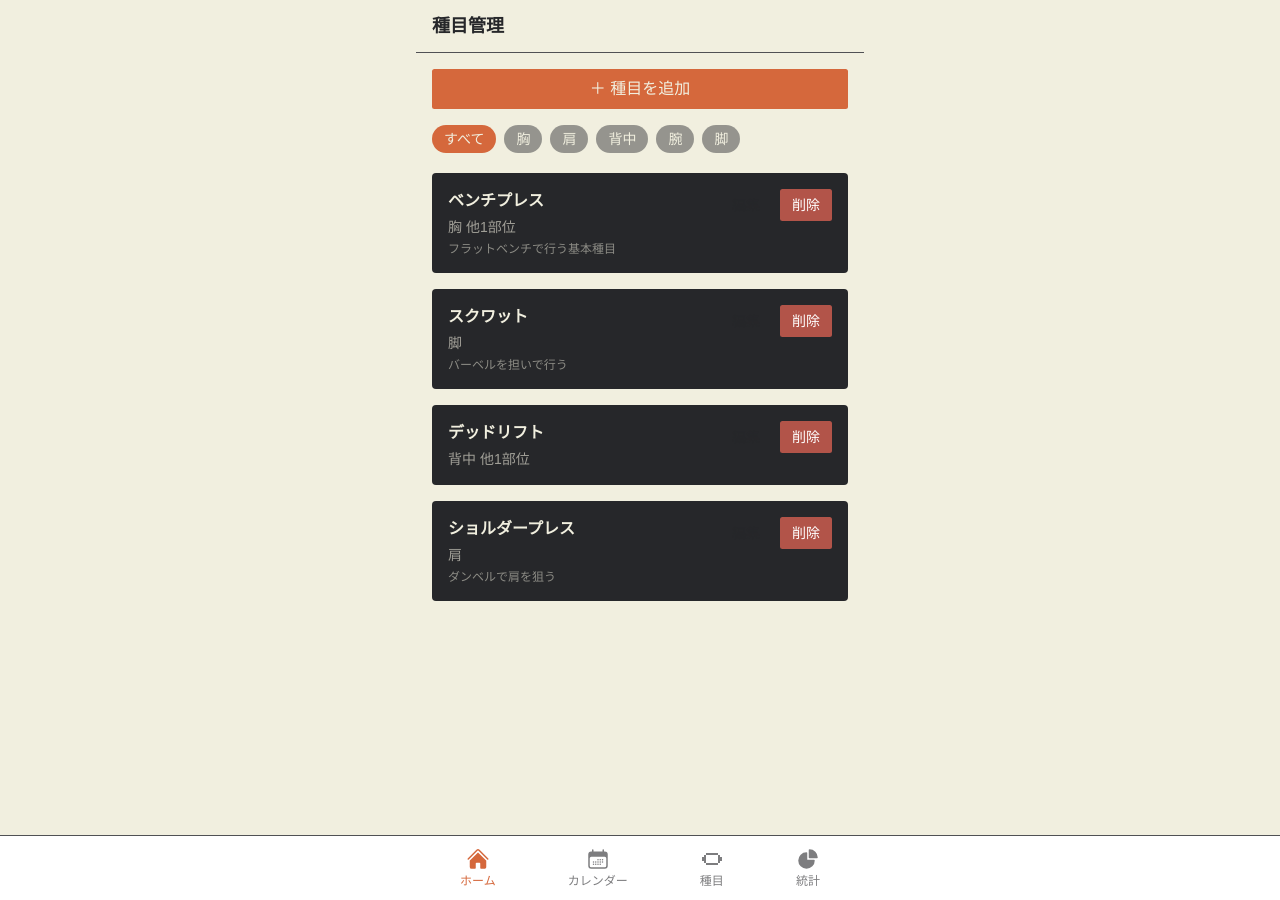
Test case: ExercisesPage › 種目名未入力で保存するとバリデーションエラー
Expected: the text "ベンチプレス" is shown, [448,192,544,209]
Click the button "＋ 種目を追加".
click(640, 89)  # box [432,69,848,109]
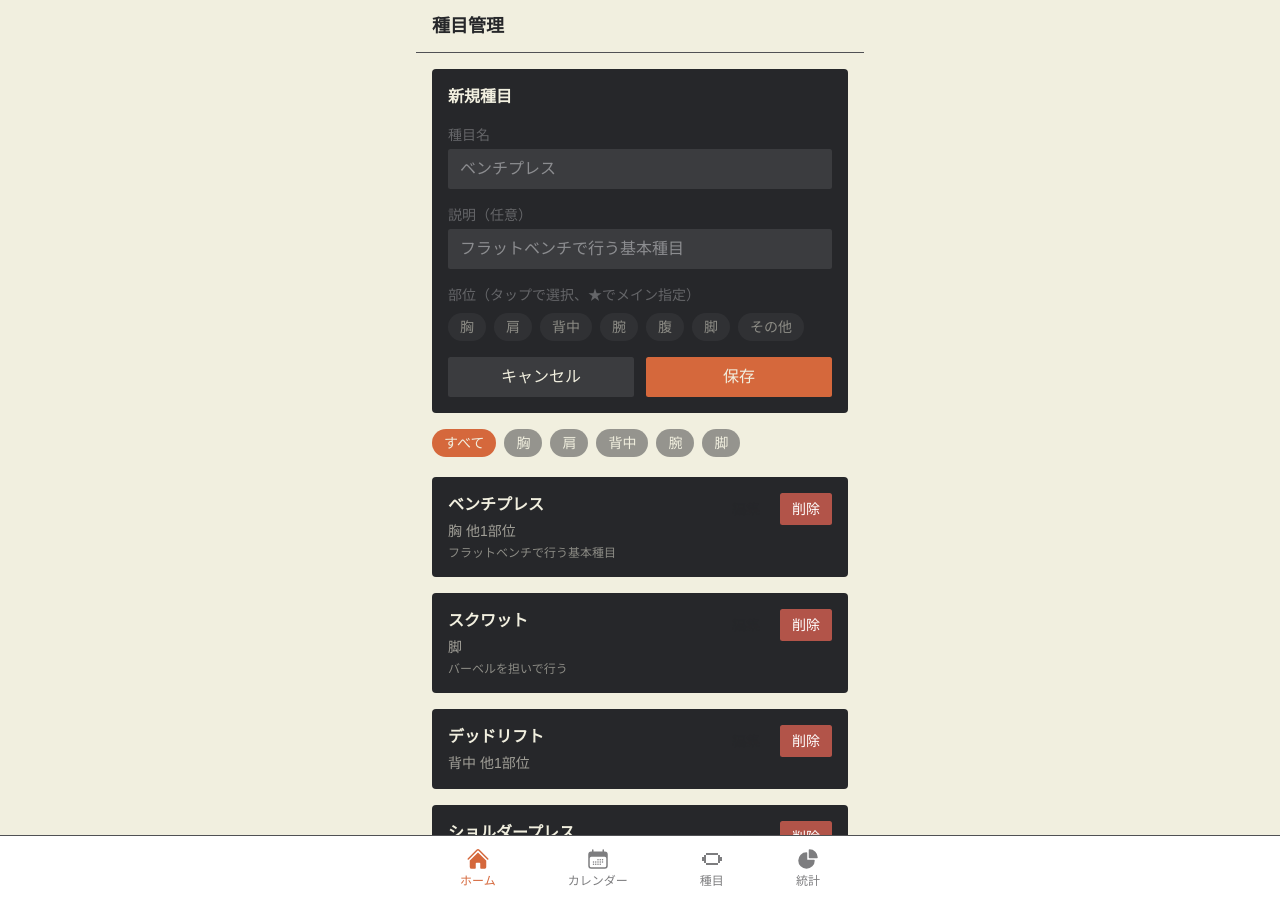
Click the button "保存".
click(739, 377)  # box [646,357,832,397]
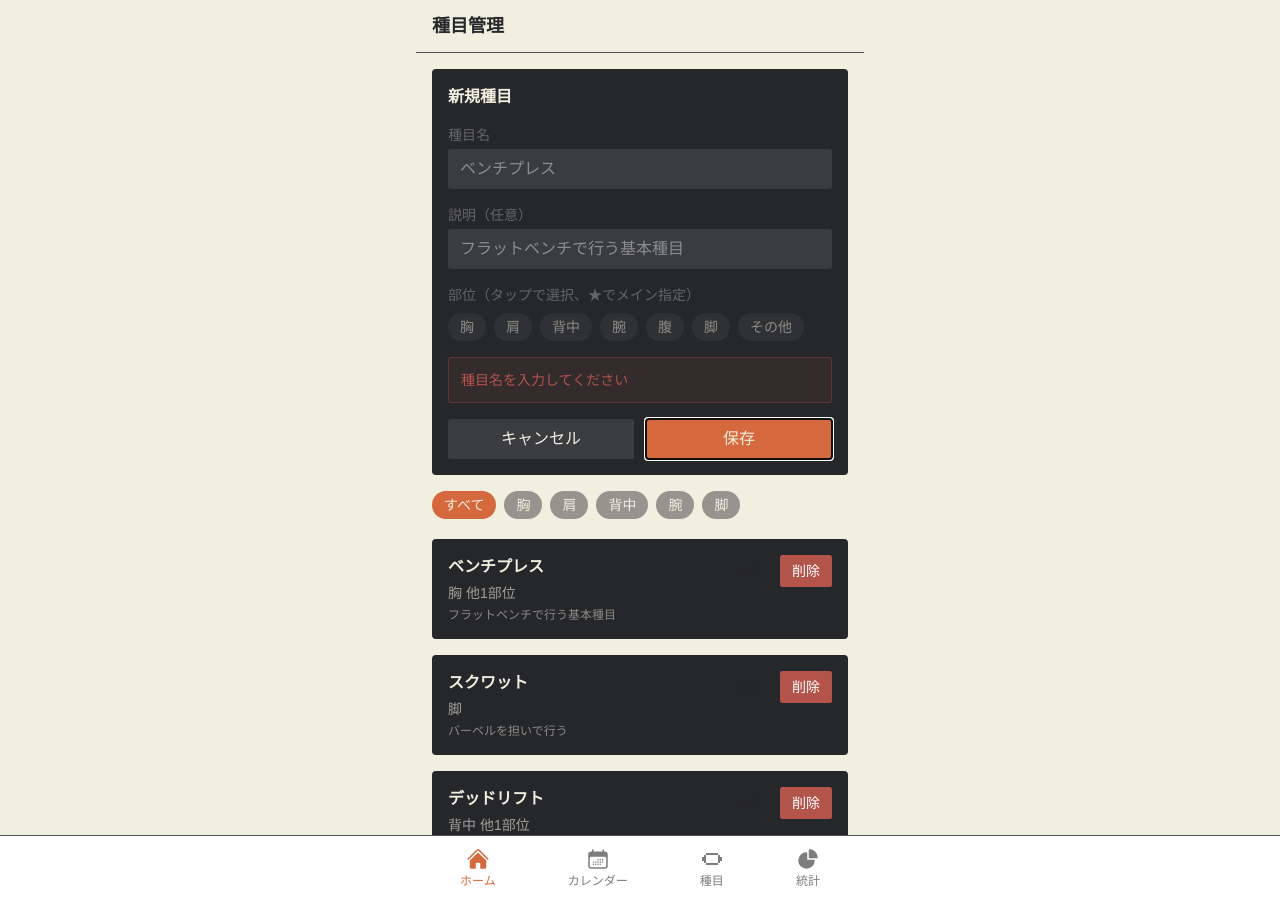
Expected: the text "種目名を入力してください" is shown, [448,357,832,403]
